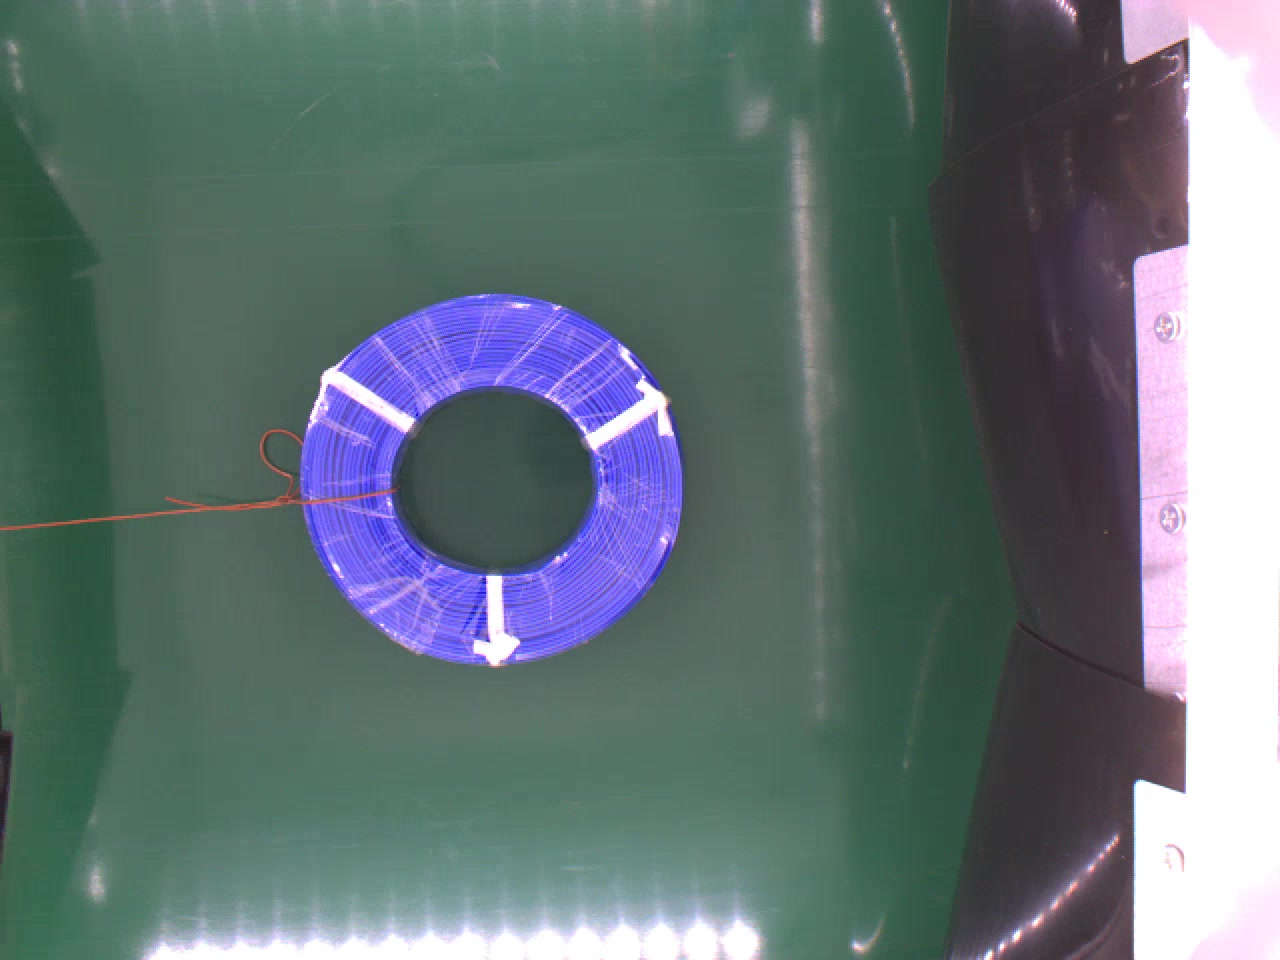blue: (296, 284, 692, 665)
